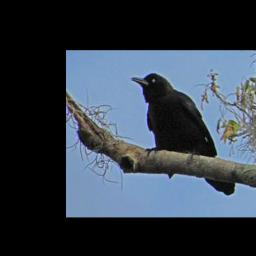Crow: (131, 73, 236, 196)
